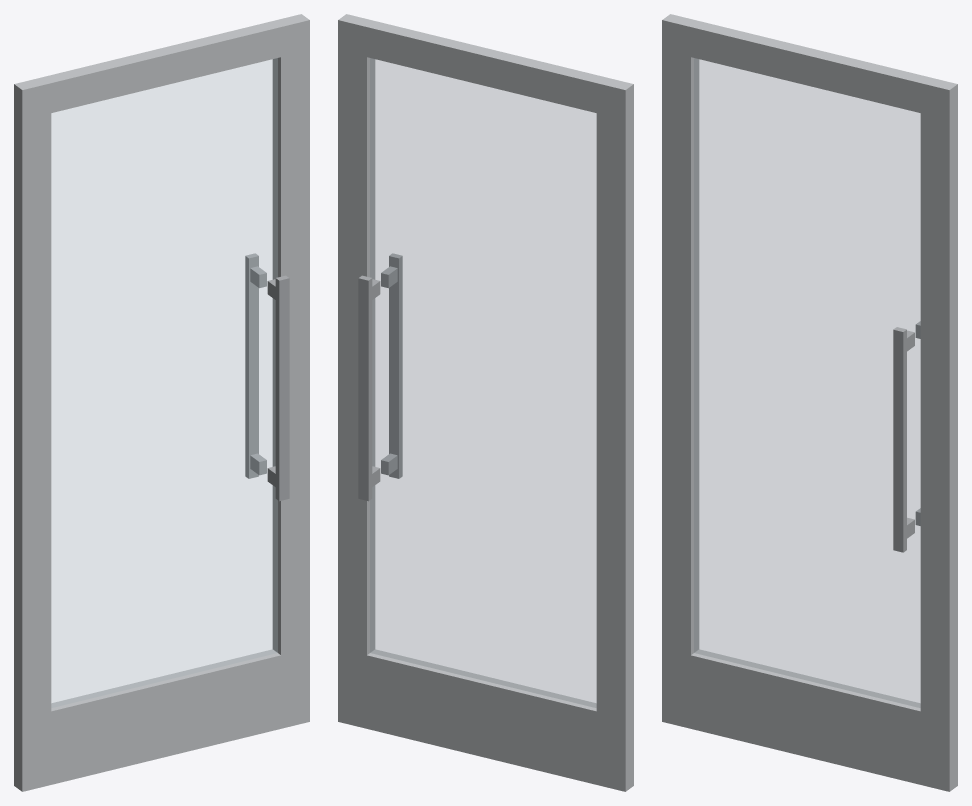
Rendered from mlo_door_glass_aluminium.glb.
3 views of the same model, side by side, from view 1: azimuth 30°, elevation 25°; view 2: azimuth 150°, elevation 25°; view 3: azimuth 330°, elevation 25° (orthographic).
Visible parts, largest first — view 1: Door_Glass_Aluminium; view 2: Door_Glass_Aluminium; view 3: Door_Glass_Aluminium.
Part boxes in pixels (x1,y1,x2,y2): Door_Glass_Aluminium: (14, 14, 309, 791); Door_Glass_Aluminium: (338, 14, 633, 791); Door_Glass_Aluminium: (662, 14, 957, 791).
Bounding box in the file's own units: 0.9 × 2.1 × 0.185.
